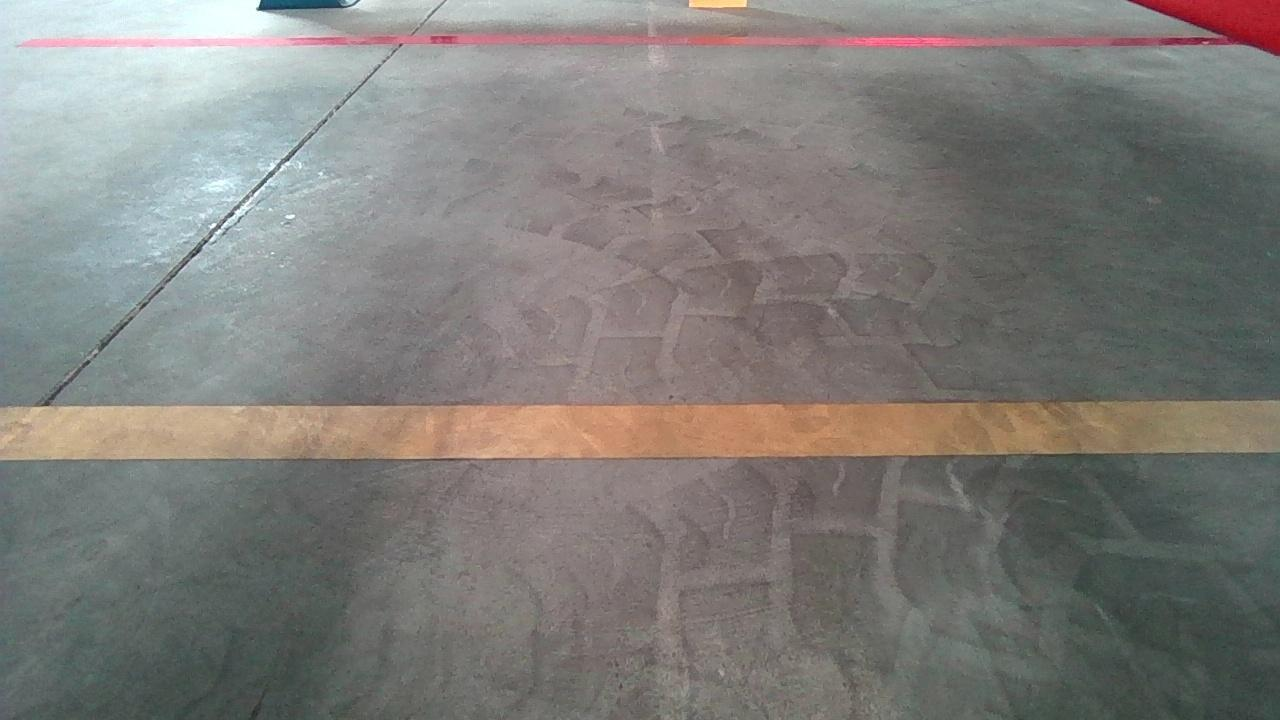red_line: (8, 37, 1236, 48)
yellow_line: (5, 393, 1280, 464)
